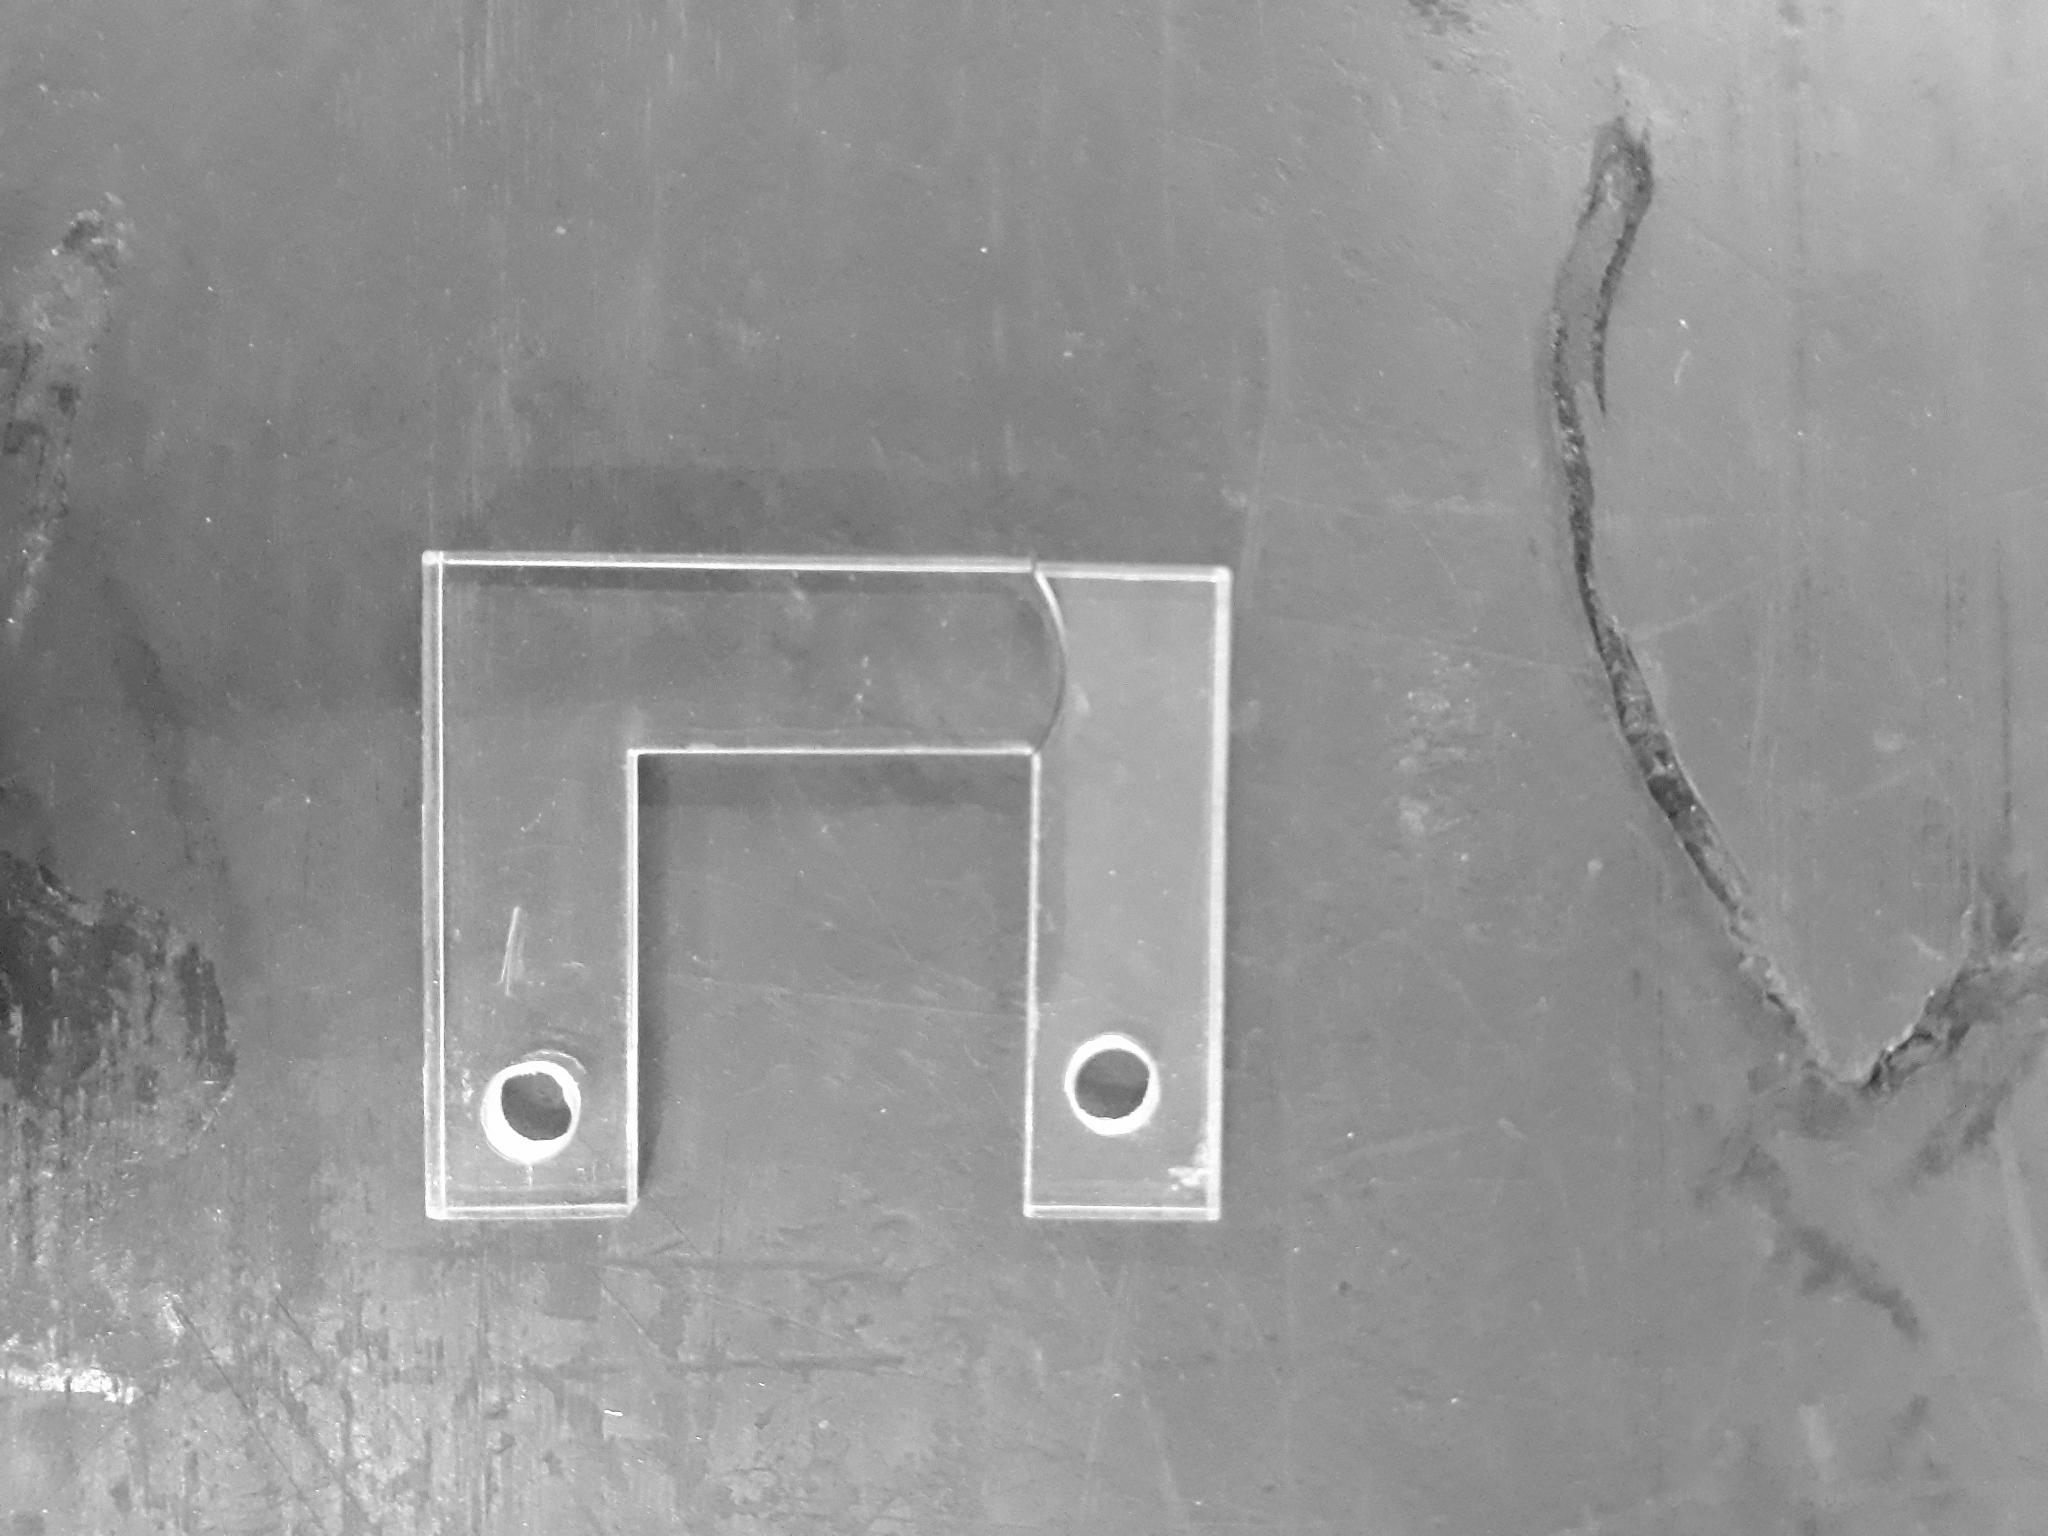Shape_90: (1068, 816, 1735, 1536), (1271, 1010, 1595, 1430)
